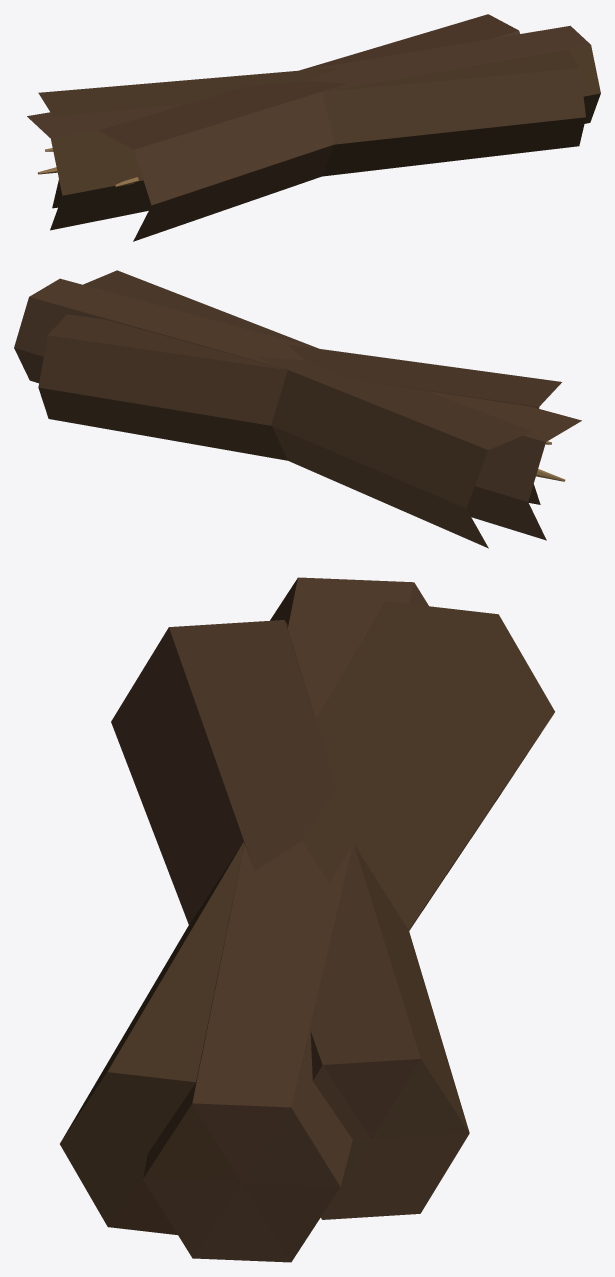
The model's file is fallen-log.glb.
3 renders of one model, top to bottom at view 1: azimuth 30°, elevation 25°; view 2: azimuth 150°, elevation 25°; view 3: azimuth 270°, elevation 25°, orthographic. The views are drawn at different scales.
Visible parts, largest first — view 1: fallen-log-c, fallen-log-b, fallen-log-a; view 2: fallen-log-b, fallen-log-c, fallen-log-a; view 3: fallen-log-b, fallen-log-c, fallen-log-a.
Part boxes in pixels (<box>): fallen-log-c: <box>38,49,585,208</box>; fallen-log-b: <box>98,14,519,241</box>; fallen-log-a: <box>27,25,600,230</box>; fallen-log-b: <box>38,314,561,504</box>; fallen-log-c: <box>83,270,532,548</box>; fallen-log-a: <box>14,278,581,540</box>; fallen-log-b: <box>111,620,469,1219</box>; fallen-log-c: <box>60,601,554,1234</box>; fallen-log-a: <box>143,577,428,1262</box>.
Size of the model in its own units: 0.8267 by 0.1386 by 0.3395.
